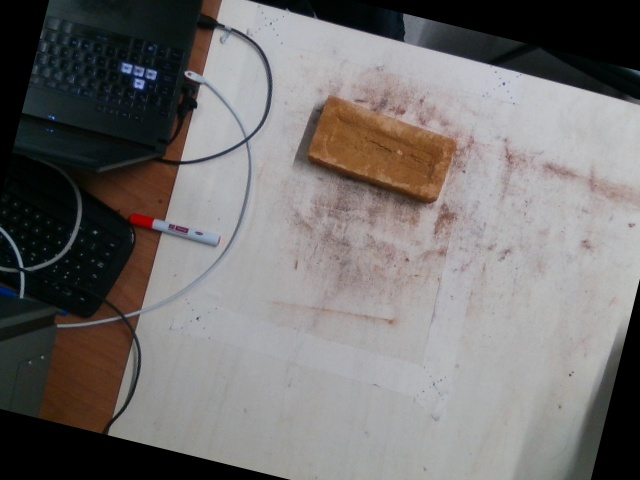brick: (309, 96, 456, 202)
